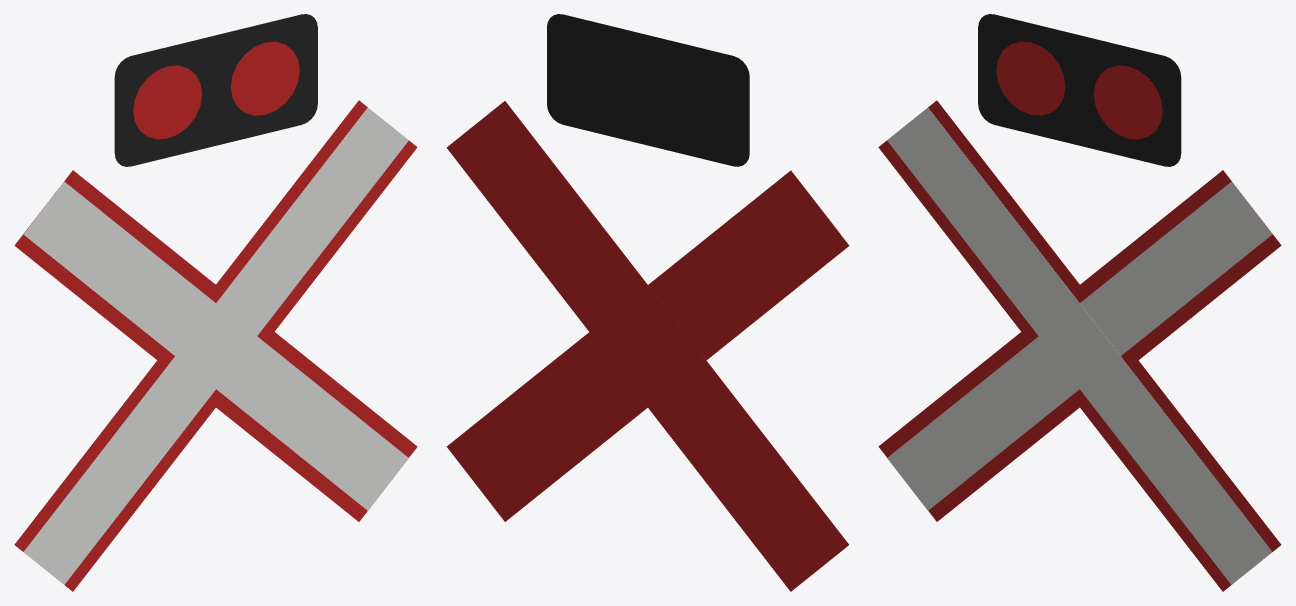
The model's file is G1bis.glb.
The picture shows the model from 3 angles, left to right: view 1: azimuth 30°, elevation 25°; view 2: azimuth 150°, elevation 25°; view 3: azimuth 330°, elevation 25°; orthographic projection.
Visible parts, largest first — view 1: G1bis_bras03, G1bis_bras02, G1bis_boitier04, G1bis_bras01, G1bis_bras00, G1bis_feu05, G1bis_feu06; view 2: G1bis_bras00, G1bis_bras01, G1bis_boitier04; view 3: G1bis_bras03, G1bis_bras02, G1bis_boitier04, G1bis_bras01, G1bis_bras00, G1bis_feu05, G1bis_feu06.
Boxes of the visible parts, bbox=[...] form: G1bis_bras03: bbox=[23, 181, 408, 510]; G1bis_bras02: bbox=[23, 107, 408, 584]; G1bis_boitier04: bbox=[114, 14, 317, 166]; G1bis_bras01: bbox=[14, 170, 417, 521]; G1bis_bras00: bbox=[14, 100, 417, 591]; G1bis_feu05: bbox=[133, 65, 202, 139]; G1bis_feu06: bbox=[230, 41, 299, 115]; G1bis_bras00: bbox=[446, 101, 848, 591]; G1bis_bras01: bbox=[446, 170, 849, 521]; G1bis_boitier04: bbox=[547, 14, 749, 166]; G1bis_bras03: bbox=[887, 108, 1272, 584]; G1bis_bras02: bbox=[887, 181, 1272, 510]; G1bis_boitier04: bbox=[978, 14, 1181, 166]; G1bis_bras01: bbox=[878, 100, 1281, 591]; G1bis_bras00: bbox=[878, 170, 1281, 521]; G1bis_feu05: bbox=[996, 41, 1065, 115]; G1bis_feu06: bbox=[1093, 65, 1162, 139].
Size of the model in its own units: 0.9928 by 1.23 by 0.0028.
